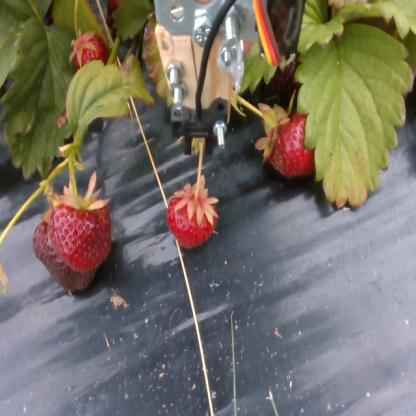ripe: (34, 217, 93, 297), (271, 112, 325, 172), (57, 199, 107, 263), (170, 187, 213, 249), (72, 31, 103, 72)
